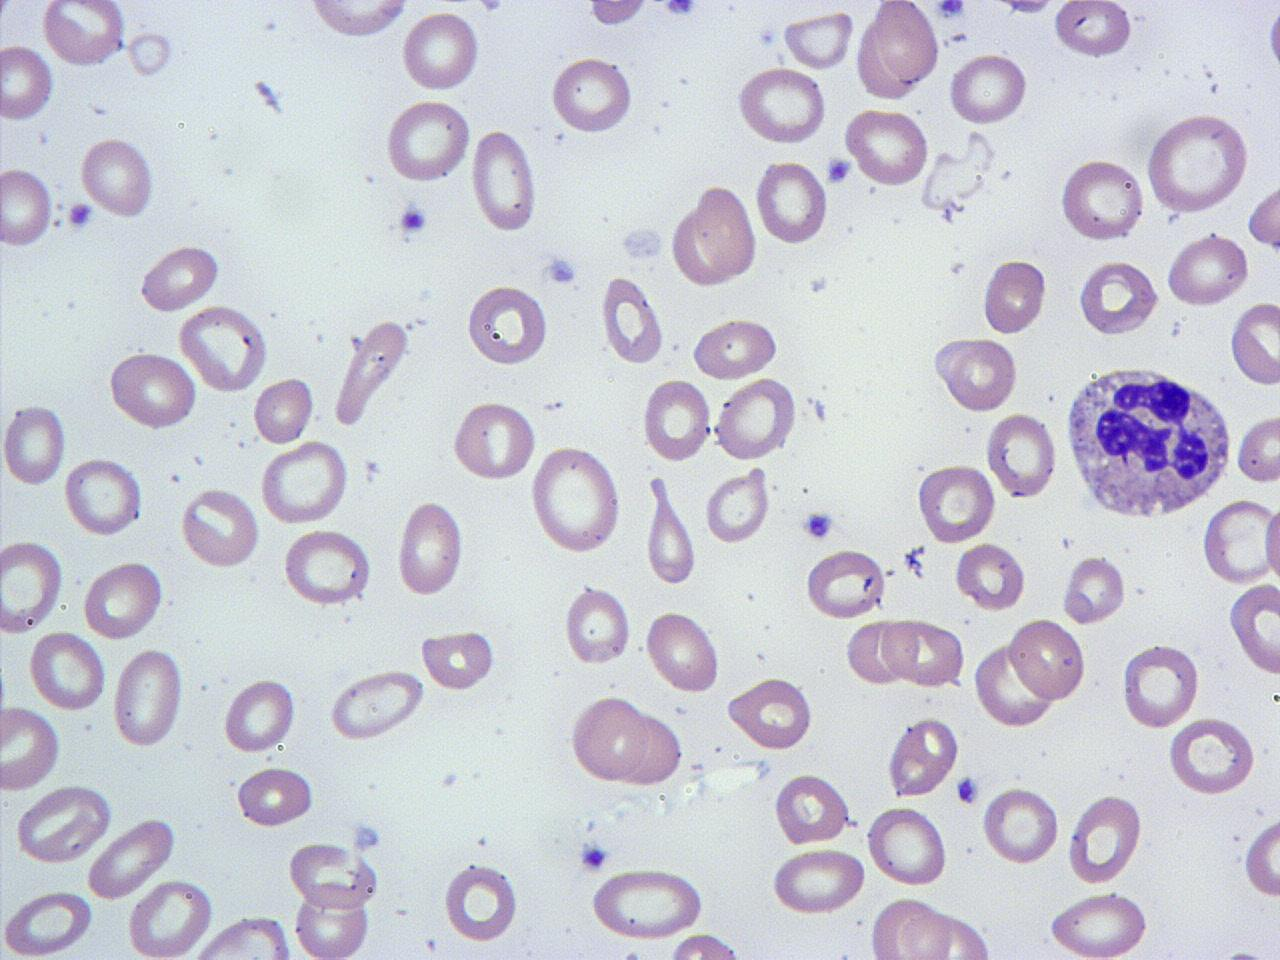Platelets: (616, 221, 666, 263), (544, 253, 580, 289), (397, 203, 430, 238), (801, 508, 836, 542), (578, 841, 610, 873), (352, 822, 384, 852), (65, 199, 95, 231), (1217, 942, 1269, 960), (824, 156, 854, 186), (954, 772, 980, 806), (661, 1, 699, 19), (934, 1, 966, 20), (944, 30, 970, 48), (940, 201, 958, 224), (758, 26, 776, 47), (906, 544, 926, 562), (903, 548, 919, 566)
RBC: (1143, 111, 1253, 216), (528, 443, 624, 555), (332, 316, 412, 429), (176, 302, 270, 395), (590, 866, 703, 940), (84, 815, 179, 899), (734, 64, 830, 147), (258, 441, 350, 528), (14, 784, 108, 867), (111, 645, 184, 750), (1058, 156, 1146, 244), (1166, 714, 1258, 798), (1066, 790, 1144, 888), (468, 127, 540, 232), (382, 97, 470, 184), (450, 398, 538, 484), (107, 348, 198, 432), (464, 282, 550, 368), (126, 876, 215, 960), (327, 669, 427, 742), (714, 375, 796, 464), (1007, 613, 1087, 704), (568, 693, 648, 785), (280, 526, 372, 606), (178, 484, 262, 571), (81, 556, 164, 642), (843, 105, 930, 188), (1047, 889, 1151, 959), (725, 674, 816, 752), (864, 804, 948, 888), (548, 55, 636, 137), (1200, 496, 1278, 588), (970, 642, 1052, 728), (1121, 642, 1201, 730), (78, 132, 157, 221), (399, 7, 480, 94), (768, 846, 868, 916), (63, 453, 143, 539), (980, 784, 1060, 868), (287, 838, 380, 912), (643, 608, 721, 696), (1078, 256, 1160, 339), (396, 498, 464, 598), (985, 409, 1058, 500), (916, 462, 996, 546), (754, 158, 828, 247), (28, 628, 107, 712), (1163, 232, 1251, 307), (691, 182, 759, 278), (443, 859, 519, 945), (0, 536, 65, 636), (882, 614, 966, 691), (0, 888, 93, 957), (946, 51, 1030, 127), (1, 397, 69, 490), (599, 274, 666, 367), (642, 374, 712, 464), (887, 714, 959, 800), (644, 472, 698, 586), (40, 0, 127, 71), (689, 315, 781, 381), (802, 546, 884, 620), (871, 0, 941, 86), (222, 676, 297, 755), (138, 242, 222, 314), (562, 582, 632, 668), (772, 772, 852, 846), (292, 886, 372, 959), (615, 708, 685, 790), (954, 538, 1028, 613), (0, 704, 62, 792), (979, 257, 1047, 336), (948, 337, 1018, 413), (1226, 579, 1280, 677), (703, 468, 770, 546), (235, 764, 314, 829), (1051, 0, 1135, 61), (898, 906, 992, 959), (868, 895, 945, 960), (419, 627, 495, 693), (1061, 552, 1129, 624), (188, 913, 292, 959), (844, 616, 912, 686), (252, 374, 317, 447), (0, 164, 55, 250), (781, 8, 856, 72), (0, 40, 56, 123), (1230, 299, 1280, 387), (306, 0, 411, 40), (1234, 411, 1280, 487), (1243, 814, 1279, 899), (931, 333, 982, 384), (663, 931, 750, 960), (1245, 178, 1279, 252), (584, 1, 652, 28)
WBC: (1060, 361, 1234, 525)
